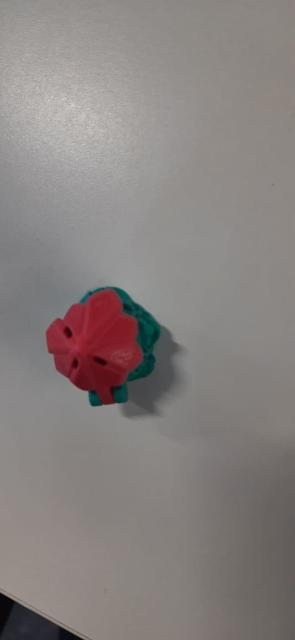House: (44, 278, 168, 406)
